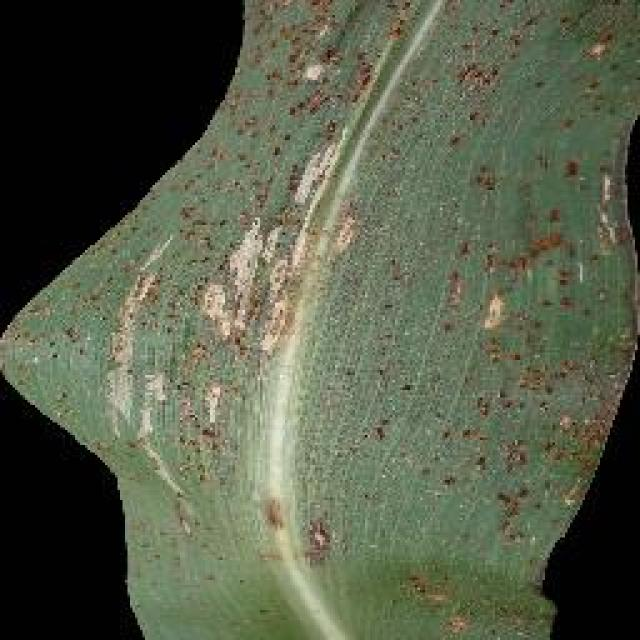Corn Common Rust: (65, 50, 575, 492)
